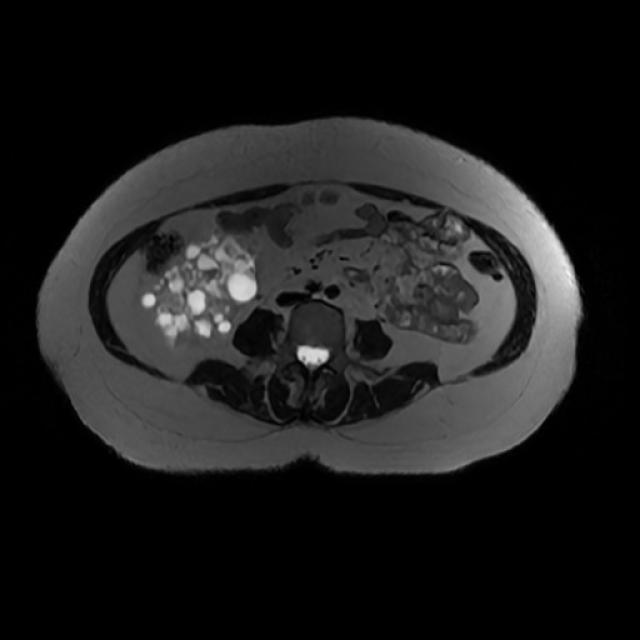sag: (145, 236, 259, 340)
